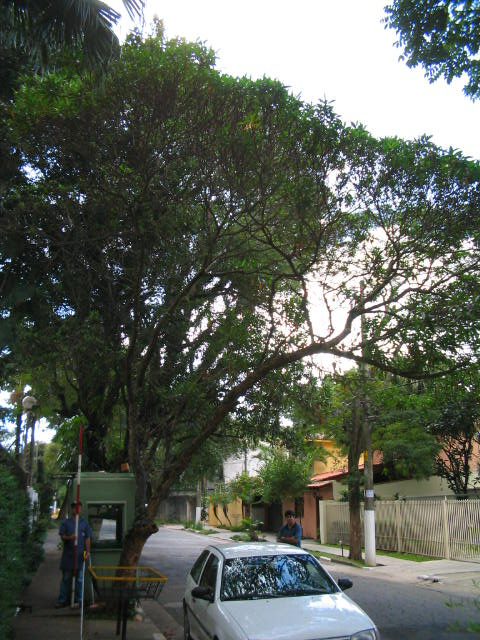crown: (15, 19, 477, 379)
stem: (98, 519, 160, 607)
stick: (66, 424, 90, 604)
tree: (12, 16, 477, 610)
